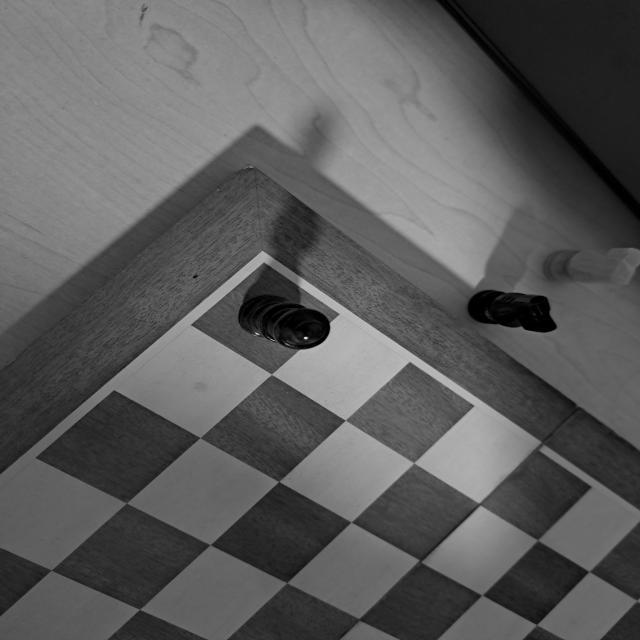chess-table-corners: (205, 231, 324, 311)
